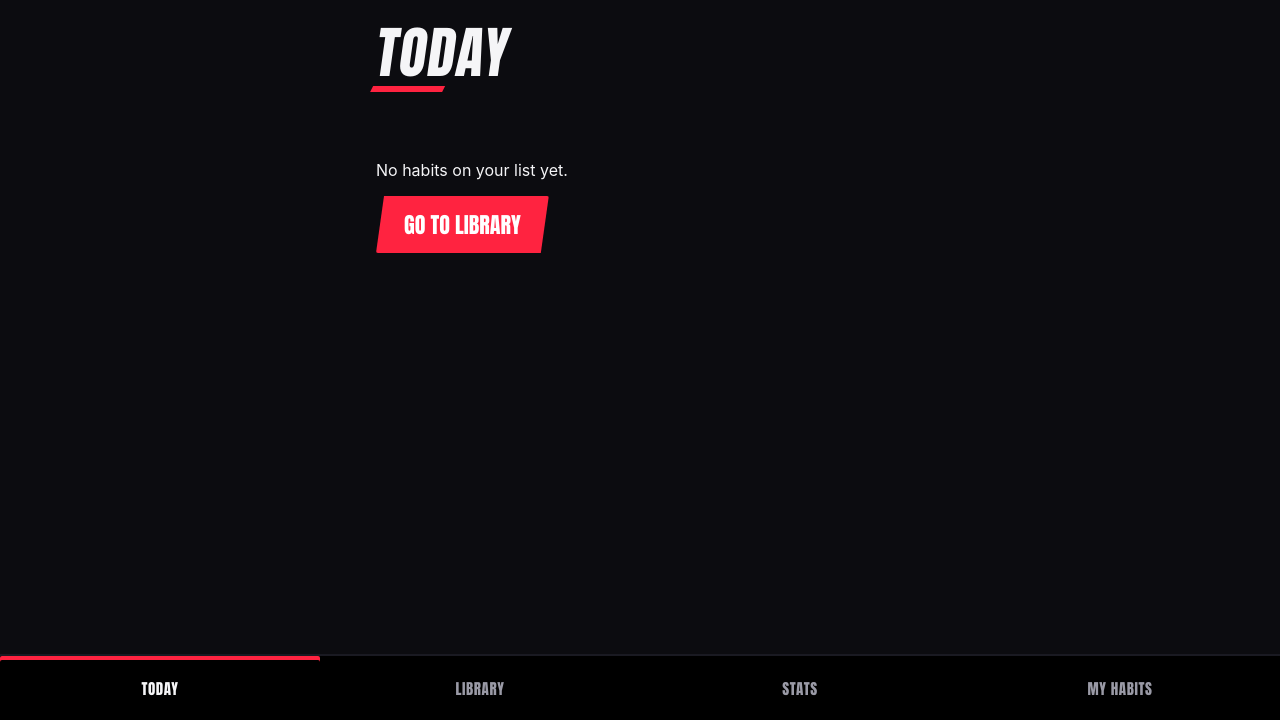
Test case: app shell › switches screens from the tab bar
The image size is (1280, 720).
Click the button "Stats".
click(800, 688)  # box [640,656,960,719]
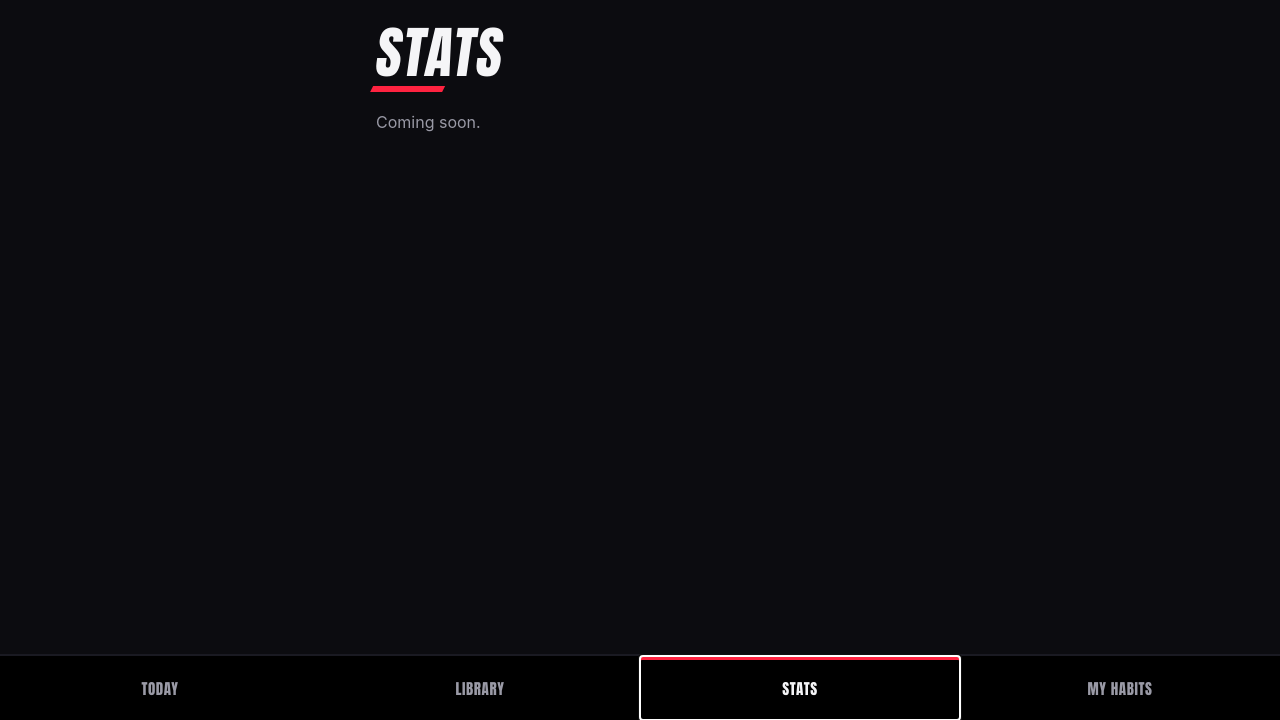
Expected: the heading "Stats" is shown, [371,10,510,94]
